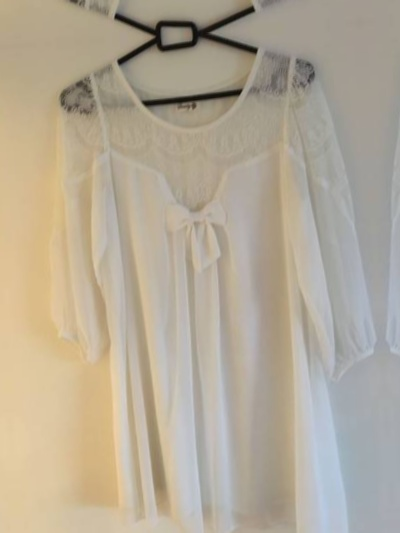Dress: (16, 45, 385, 533), (370, 21, 400, 522), (0, 0, 349, 25), (49, 527, 400, 533), (335, 0, 400, 1)
